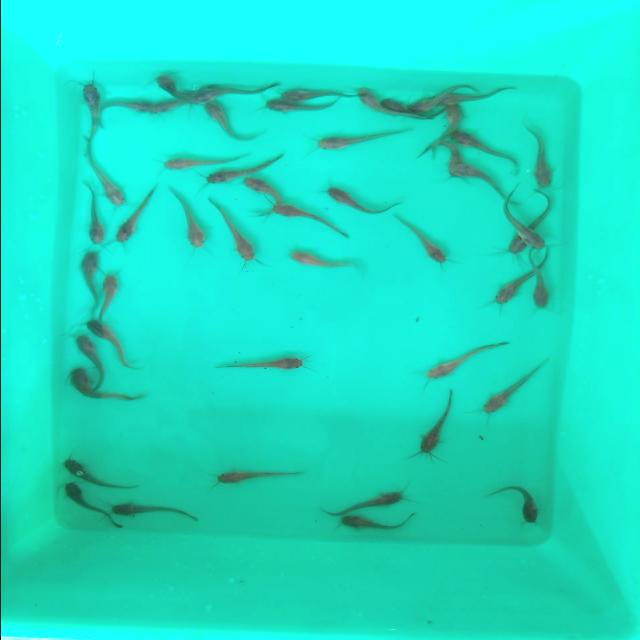lele: (481, 191, 549, 256), (496, 192, 562, 257), (484, 365, 544, 417), (420, 343, 500, 381), (393, 212, 445, 266), (412, 392, 456, 453), (318, 180, 396, 212), (83, 318, 136, 364), (66, 370, 132, 406), (214, 207, 256, 263), (86, 147, 125, 207), (167, 195, 208, 252), (489, 482, 543, 524), (308, 128, 402, 152), (454, 131, 514, 166), (272, 202, 342, 230), (280, 252, 367, 274), (197, 102, 250, 137), (111, 502, 195, 524), (325, 492, 407, 514), (117, 194, 153, 244), (56, 483, 102, 522), (332, 514, 412, 536), (74, 81, 104, 139), (454, 166, 506, 199), (61, 456, 117, 486), (212, 468, 298, 486), (80, 187, 106, 245), (214, 356, 308, 372), (100, 93, 150, 122), (524, 126, 548, 186), (68, 334, 104, 372), (490, 267, 526, 305), (195, 82, 267, 101), (76, 249, 99, 308), (427, 106, 462, 144), (440, 88, 512, 106), (345, 83, 381, 119), (96, 273, 124, 317), (158, 154, 226, 172), (202, 164, 262, 184), (260, 101, 334, 117), (278, 84, 336, 104), (244, 177, 279, 210), (152, 66, 185, 100), (150, 94, 193, 120), (424, 142, 456, 176), (378, 92, 412, 124), (528, 268, 550, 312), (412, 82, 442, 110)
